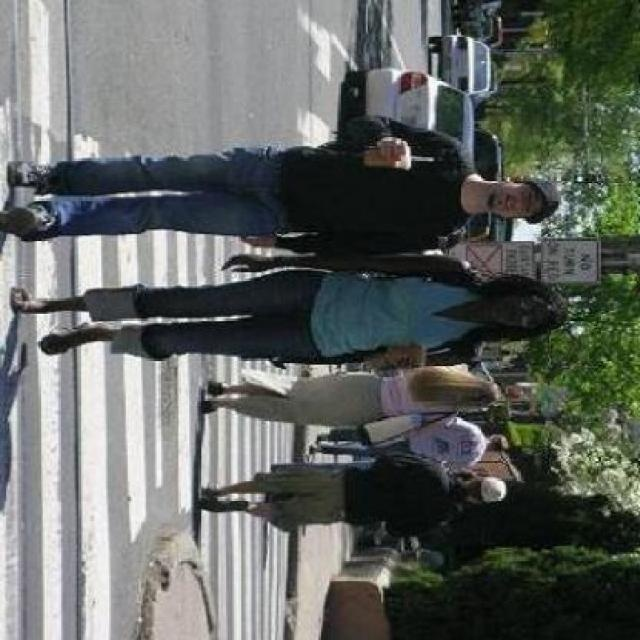obstacle: (0, 123, 563, 262), (8, 258, 569, 367), (183, 462, 505, 536), (195, 368, 508, 430)
